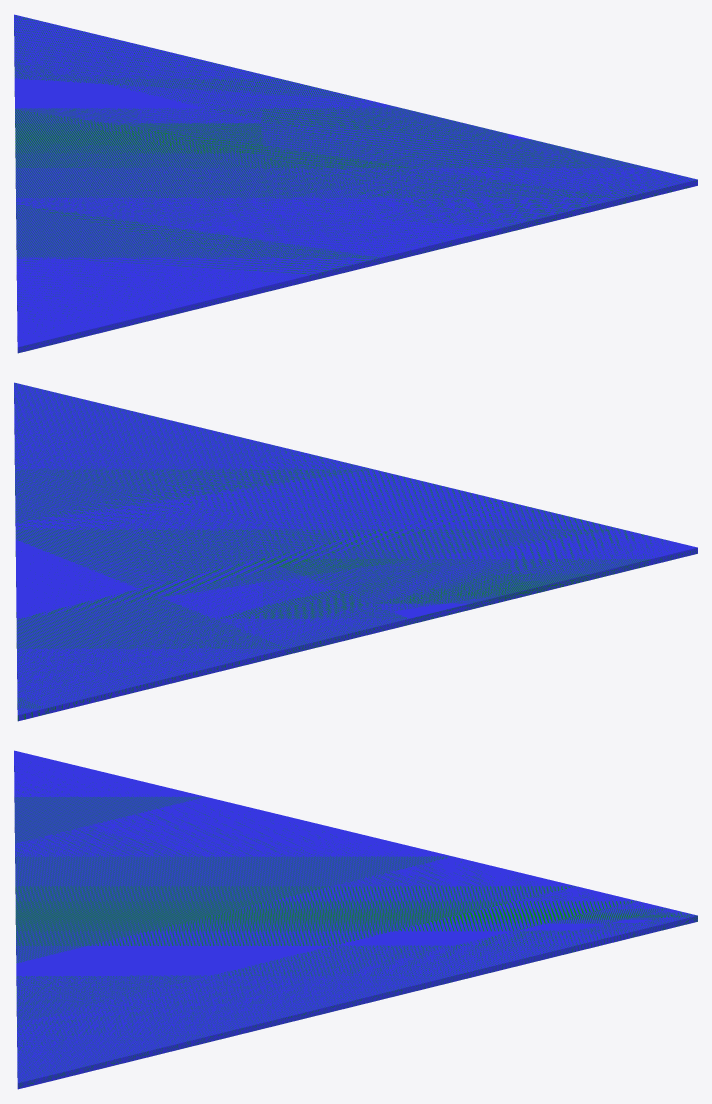
File: triangle.dae
The picture shows the model from 3 angles, top to bottom: view 1: azimuth 30°, elevation 25°; view 2: azimuth 150°, elevation 25°; view 3: azimuth 270°, elevation 25°; orthographic projection.
Visible parts, largest first — view 1: SketchUp; view 2: SketchUp; view 3: SketchUp.
Part boxes in pixels (x1,y1,x2,y2): SketchUp: [14, 14, 697, 353]; SketchUp: [14, 382, 697, 721]; SketchUp: [14, 750, 697, 1089].
Bounding box in the file's own units: 45.69 × 39.67 × 0.3937.
